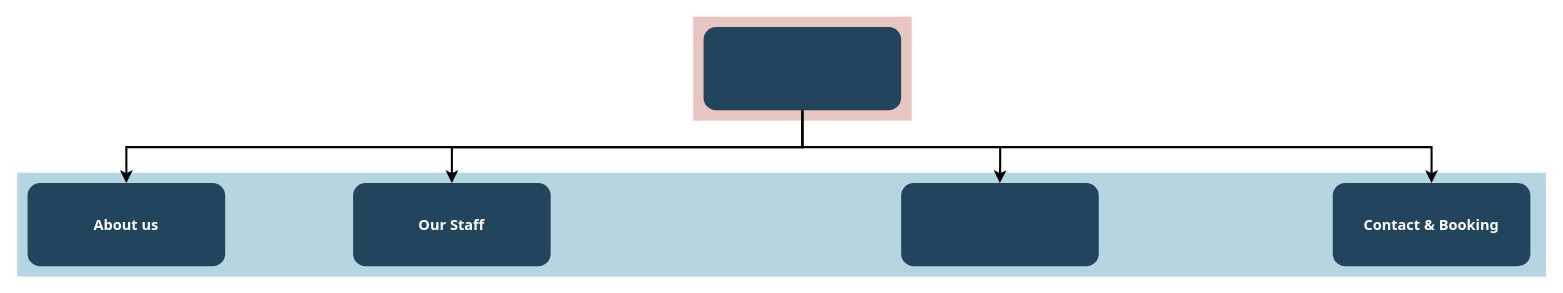
Some shapes in this 1563 by 293 pixel diagram are drawn without their labels. Each missing label, with the box of its shape:
Articles: (901, 183, 1098, 266)
Homepage: (703, 27, 901, 110)
